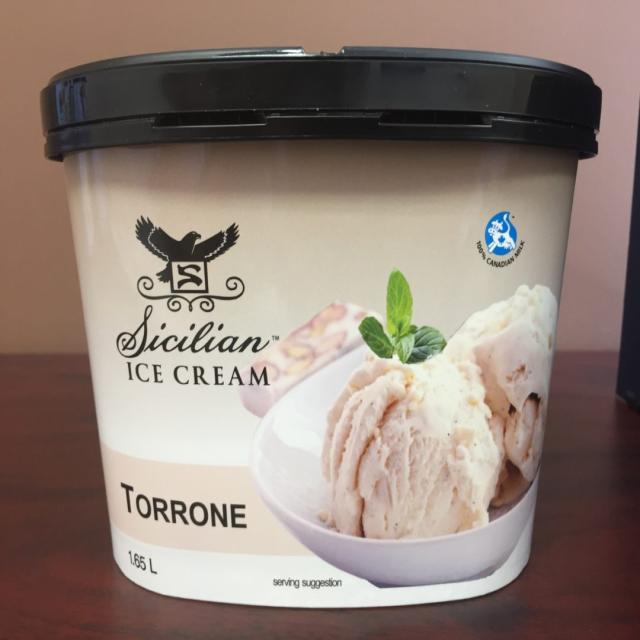plastic: (42, 39, 602, 614)
